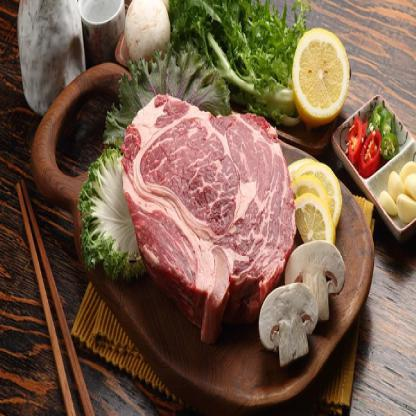beef: (122, 95, 297, 320)
